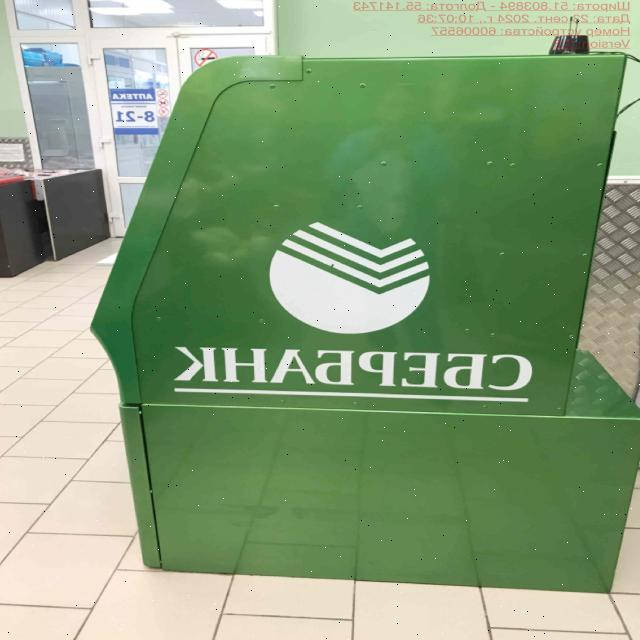bank: (89, 56, 640, 600)
